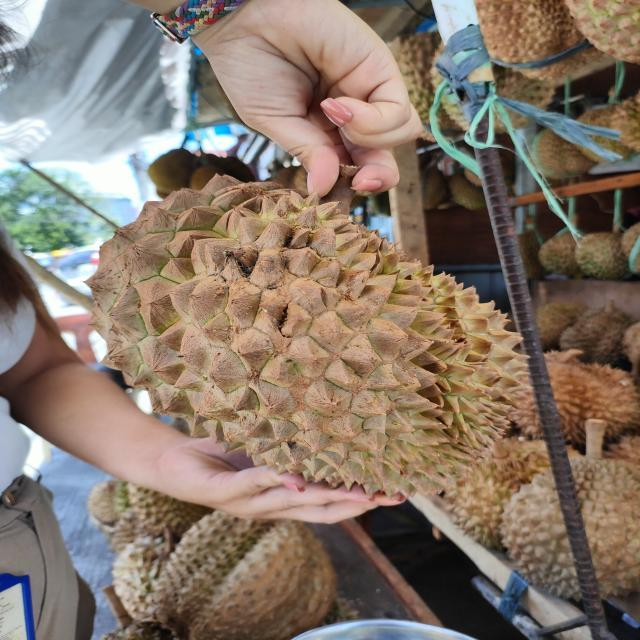mature: (80, 197, 536, 496)
